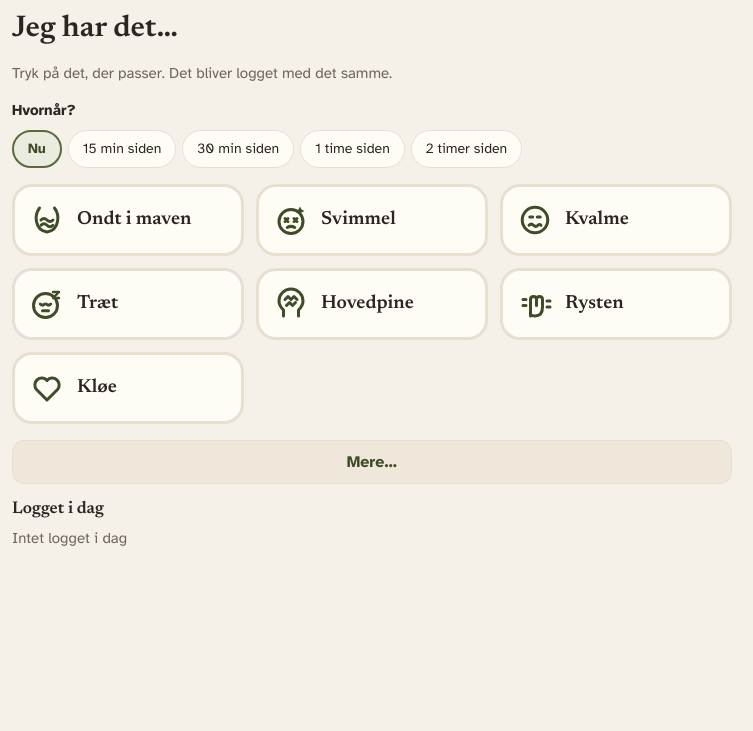
Test case: Jeg har det… (the picker, plan §5) › Mere… opens the sheet at the time chosen in Hvornår?
This screenshot has width=753, height=731.
Click the radio button labelled "2 timer siden" at (467, 149), box [411, 130, 522, 168]
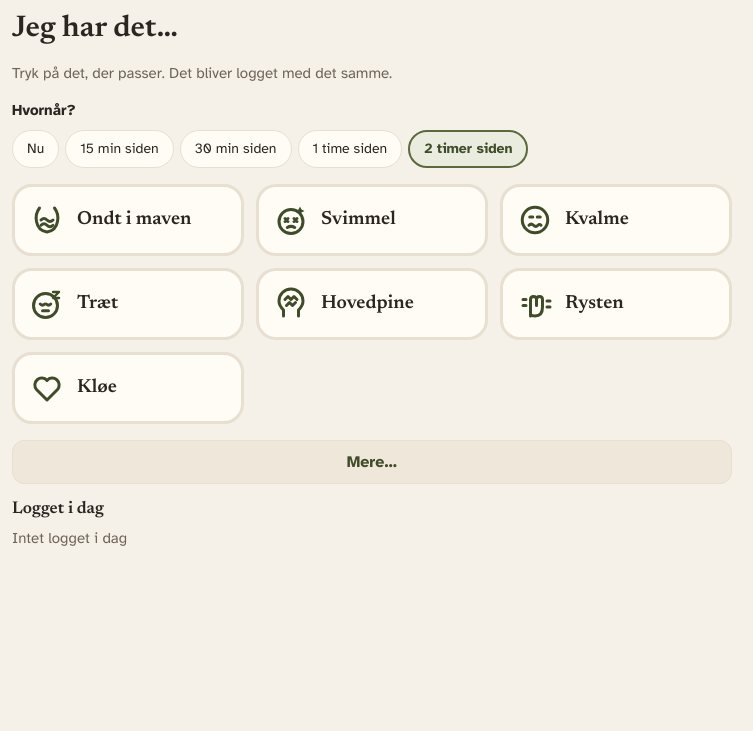
Click the button "Mere…" at (372, 462), box [12, 440, 732, 484]
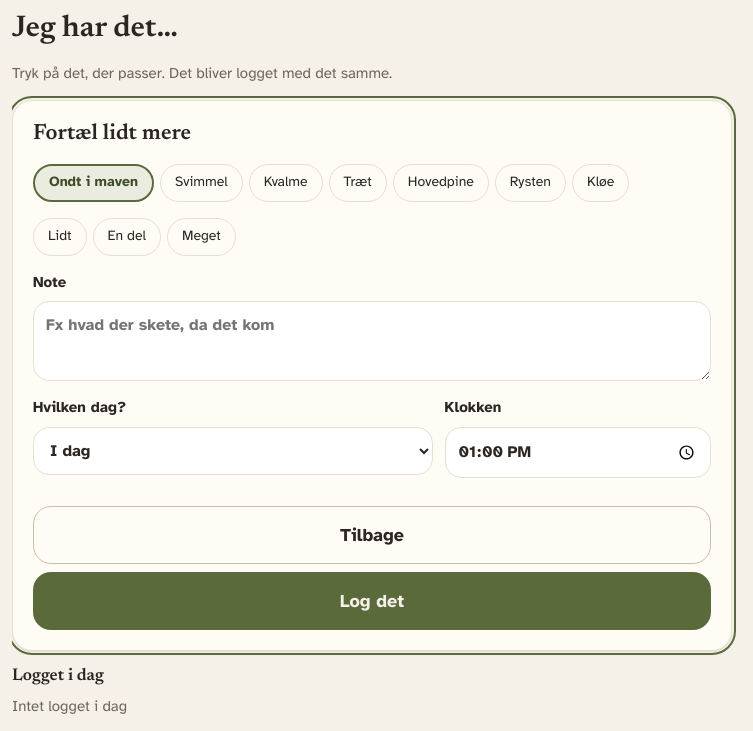
Result: the dropdown labelled "Hvilken dag?" shows "I dag" at [33, 427, 433, 475]
Result: the time field labelled "Klokken" holds "13:00" at [445, 427, 711, 478]
